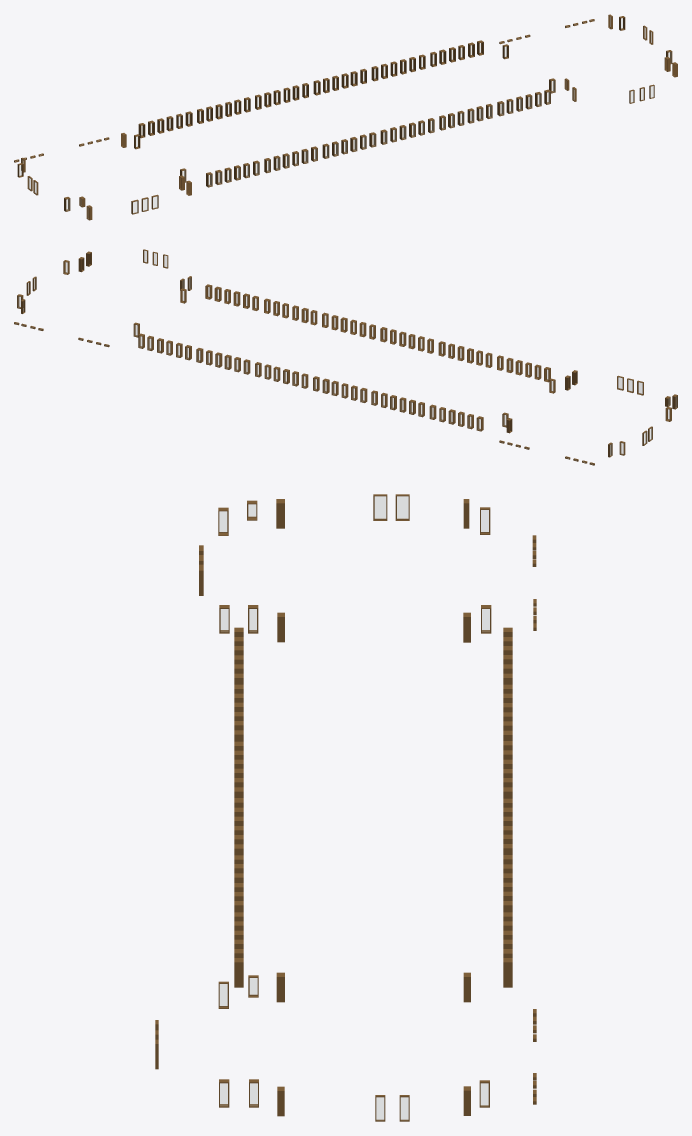
Rendered from insaat_revit_test_erisim.ifc.ifc.ifc_99.5 Foto Geo_IfcWindow.dae.
The picture shows the model from 3 angles, top to bottom: view 1: azimuth 30°, elevation 25°; view 2: azimuth 150°, elevation 25°; view 3: azimuth 270°, elevation 25°; orthographic projection. The views are drawn at different scales.
Size of the model in its own units: 76.24 by 20.41 by 2.
